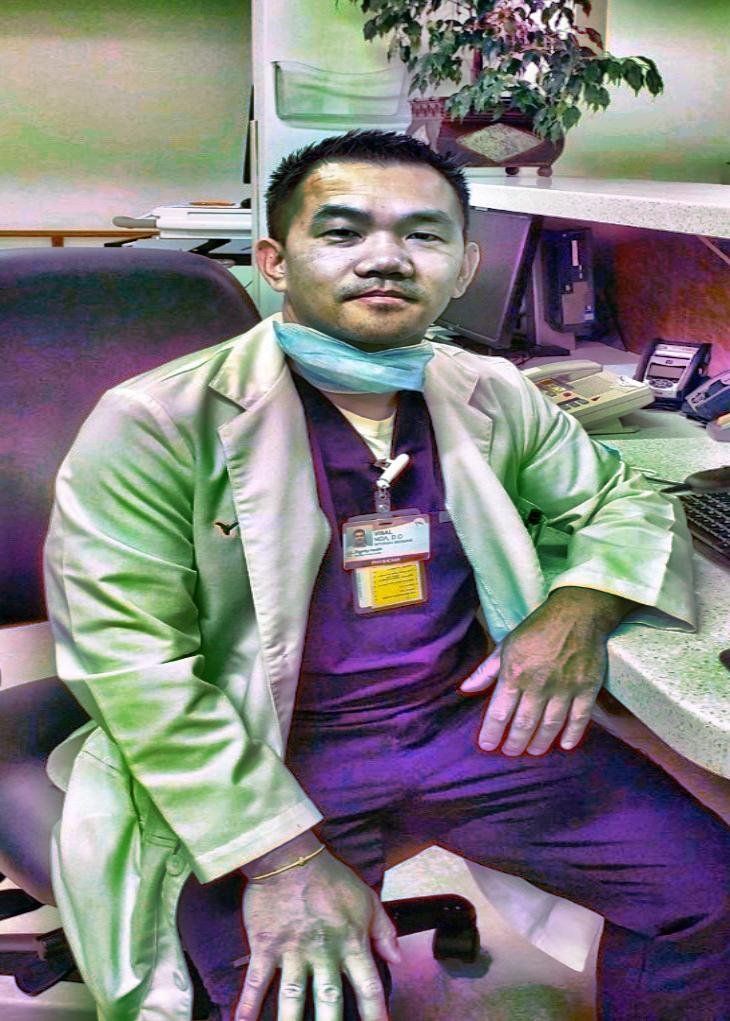mask_weared_incorrect: (255, 130, 475, 366)
